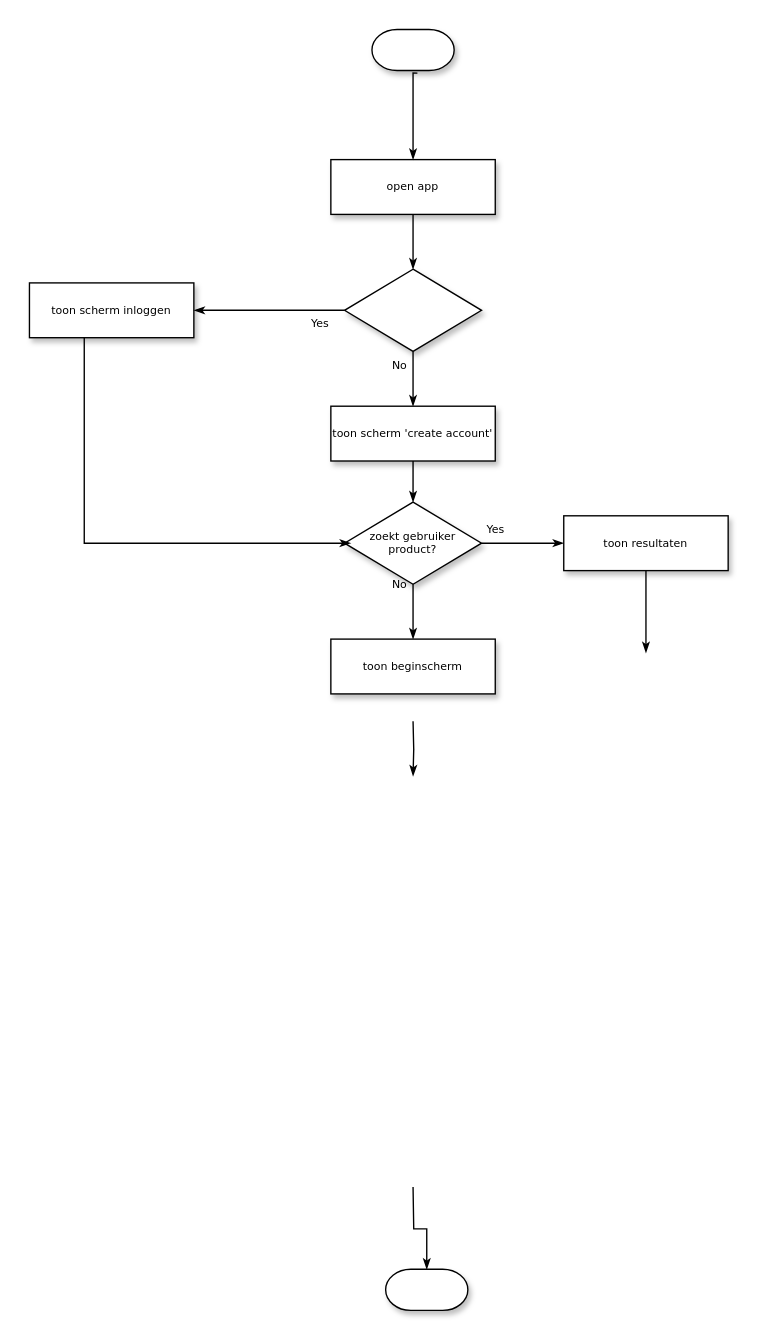
Image size: 760x1344. Some labels were removed from this diagram. The centre of each missing label's shape, as x and y in pixels:
"End" goes at [427,1291].
"heeft gebruiker account?" goes at [414,311].
"start" goes at [413,51].
